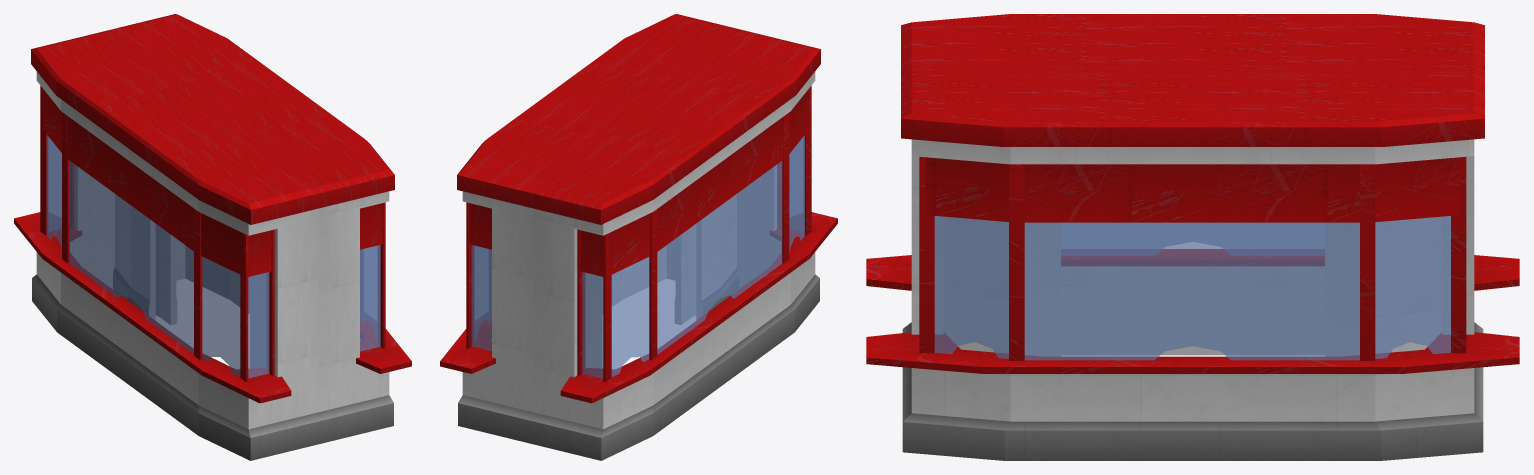
File: booth.gltf
3 views of the same model, side by side, from view 1: azimuth 30°, elevation 25°; view 2: azimuth 150°, elevation 25°; view 3: azimuth 270°, elevation 25° (orthographic). The views are drawn at different scales.
Parts seen in each view (by area): view 1: TicketBooth, TicketBooth_0.003, TicketBooth_3.003, TicketBooth_2.003, TicketBooth_1.003, TicketBooth_1.002, TicketBooth_1.001; view 2: TicketBooth, TicketBooth_0.003, TicketBooth_3.003, TicketBooth_2.003, TicketBooth_1.003, TicketBooth_1.002, TicketBooth_1.001; view 3: TicketBooth, TicketBooth_1.001, TicketBooth_0.003, TicketBooth_3.003, TicketBooth_2.003.
Boxes of the visible parts, x1,y1,x2,y2 form: TicketBooth: (105, 14, 411, 443); TicketBooth_0.003: (32, 71, 323, 460); TicketBooth_3.003: (31, 31, 322, 224); TicketBooth_2.003: (14, 85, 291, 403); TicketBooth_1.003: (46, 135, 269, 378); TicketBooth_1.002: (47, 135, 268, 377); TicketBooth_1.001: (360, 245, 380, 351); TicketBooth: (440, 14, 746, 442); TicketBooth_0.003: (528, 71, 819, 460); TicketBooth_3.003: (528, 31, 820, 224); TicketBooth_2.003: (560, 85, 837, 403); TicketBooth_1.003: (582, 135, 804, 378); TicketBooth_1.002: (582, 135, 804, 378); TicketBooth_1.001: (472, 245, 491, 350); TicketBooth: (866, 60, 1519, 460); TicketBooth_1.001: (935, 216, 1450, 359); TicketBooth_0.003: (902, 217, 1483, 375); TicketBooth_3.003: (901, 14, 1484, 76); TicketBooth_2.003: (866, 249, 1519, 290).
Size of the model in its own units: 2.54 by 3.4 by 5.95.
12 materials, 8 textured.
